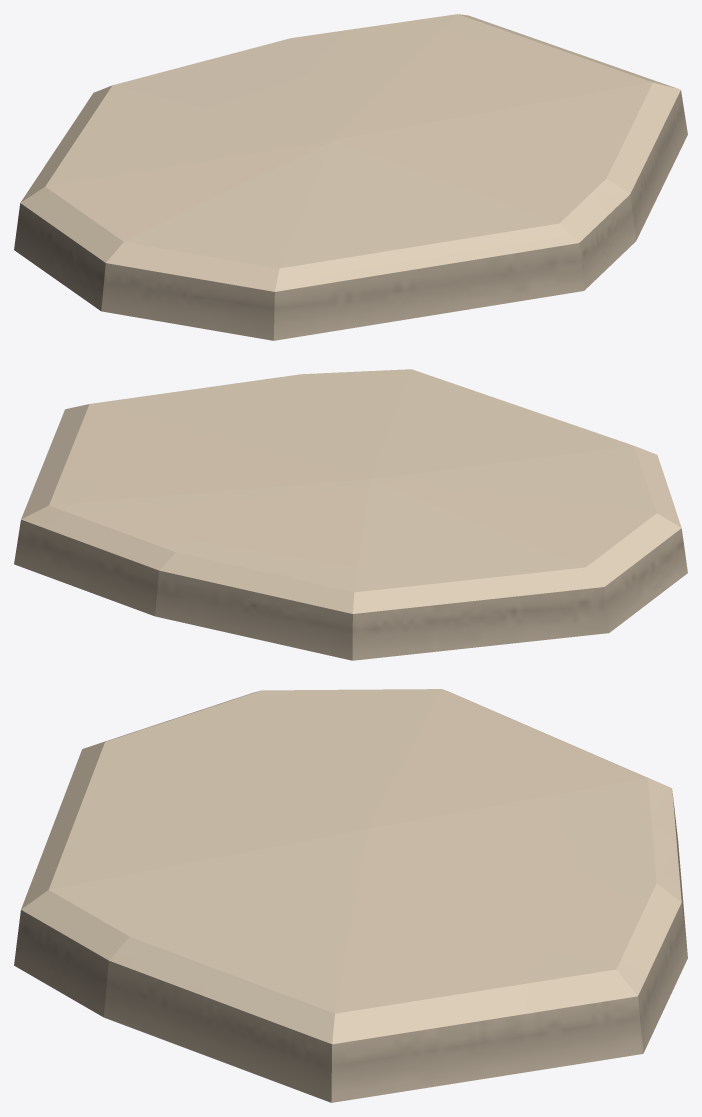
Rendered from stepping_stone_c.glb.
3 renders of one model, top to bottom at view 1: azimuth 30°, elevation 25°; view 2: azimuth 150°, elevation 25°; view 3: azimuth 270°, elevation 25°, orthographic. The views are drawn at different scales.
Visible parts, largest first — view 1: stepping_stone_c; view 2: stepping_stone_c; view 3: stepping_stone_c.
Boxes of the visible parts, bbox=[...] form: stepping_stone_c: bbox=[14, 14, 687, 340]; stepping_stone_c: bbox=[14, 369, 687, 660]; stepping_stone_c: bbox=[14, 689, 687, 1102].
Size of the model in its own units: 0.6068 by 0.061 by 0.4801.
Materials: 1 (1 with a texture image).
